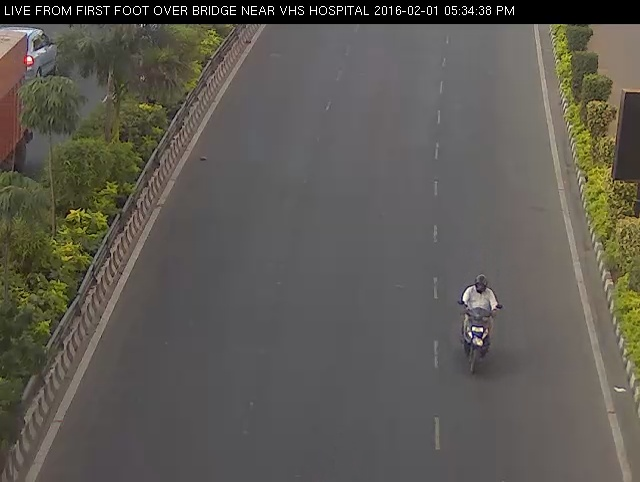Person: (444, 265, 507, 385)
